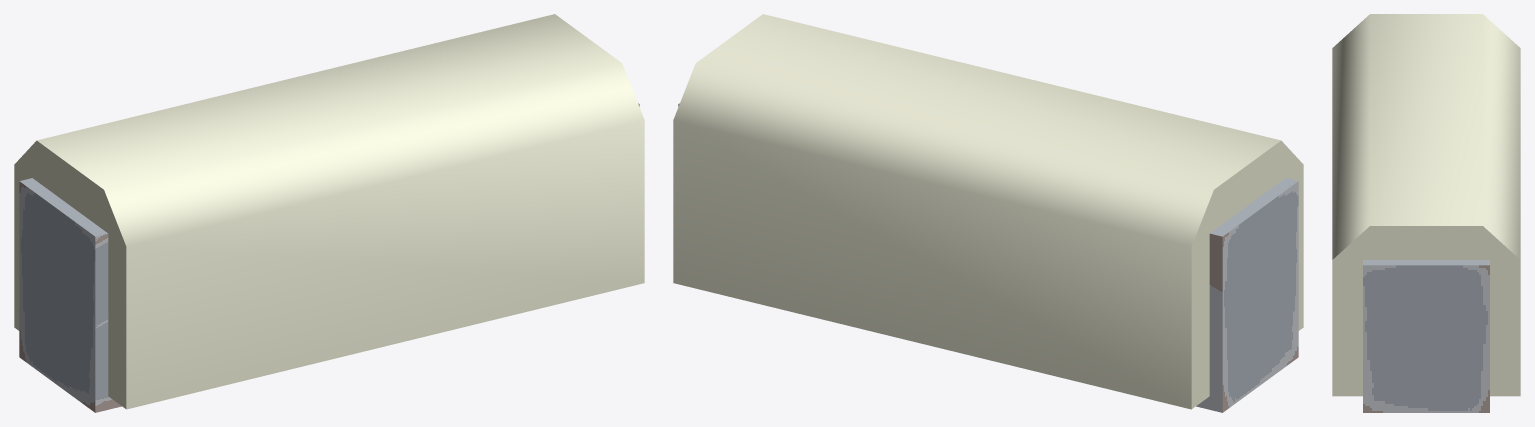
Rendered from 0537_Gate_Lamp.glb.
The picture shows the model from 3 angles, left to right: view 1: azimuth 30°, elevation 25°; view 2: azimuth 150°, elevation 25°; view 3: azimuth 270°, elevation 25°; orthographic projection. The views are drawn at different scales.
Visible parts, largest first — view 1: part_0; view 2: part_0; view 3: part_0.
Part boxes in pixels (left/top/right/bottom): part_0: left=14, top=14, right=644, bottom=412; part_0: left=673, top=14, right=1303, bottom=412; part_0: left=1332, top=14, right=1520, bottom=412.
Size of the model in its own units: 0.42 by 0.17 by 0.15.
Materials: 1 (1 with a texture image).
